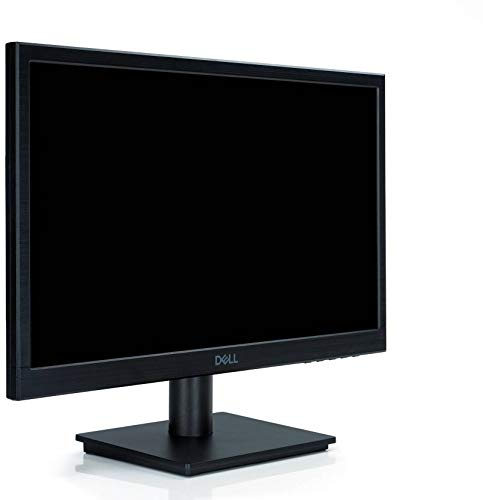dell-monitor-D1918H: (1, 50, 397, 481)
